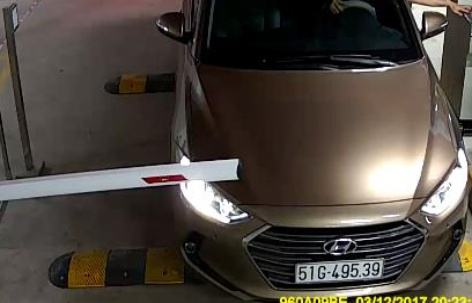plate: (289, 259, 393, 285)
